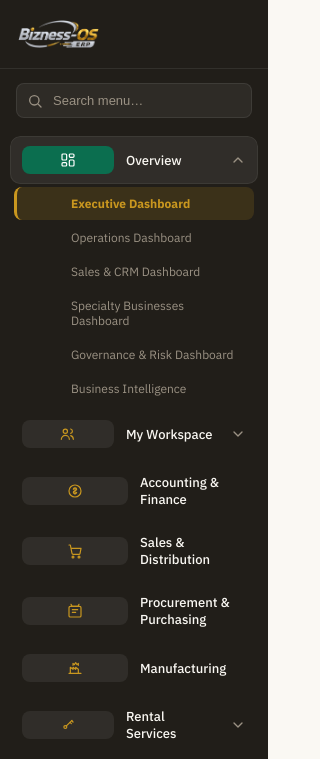
Test: Sidebar - search filtering › a search query matching no items or section names shows nothing
The width and height of the screenshot is (320, 759).
Type "zzz-no-such-thing-zzz" into the field with placeholder "Search menu…" at (146, 100), box [51,92,241,109]
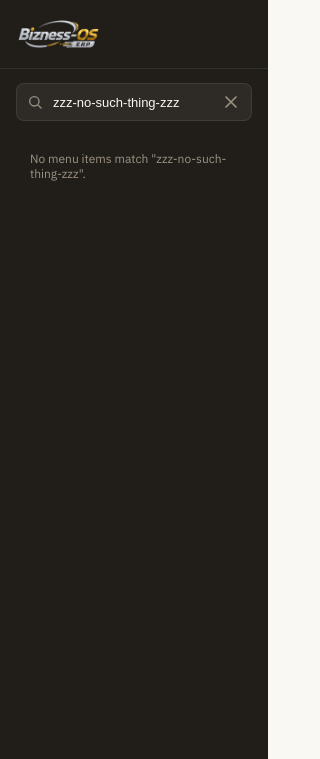
Result: the button "Overview" is gone
